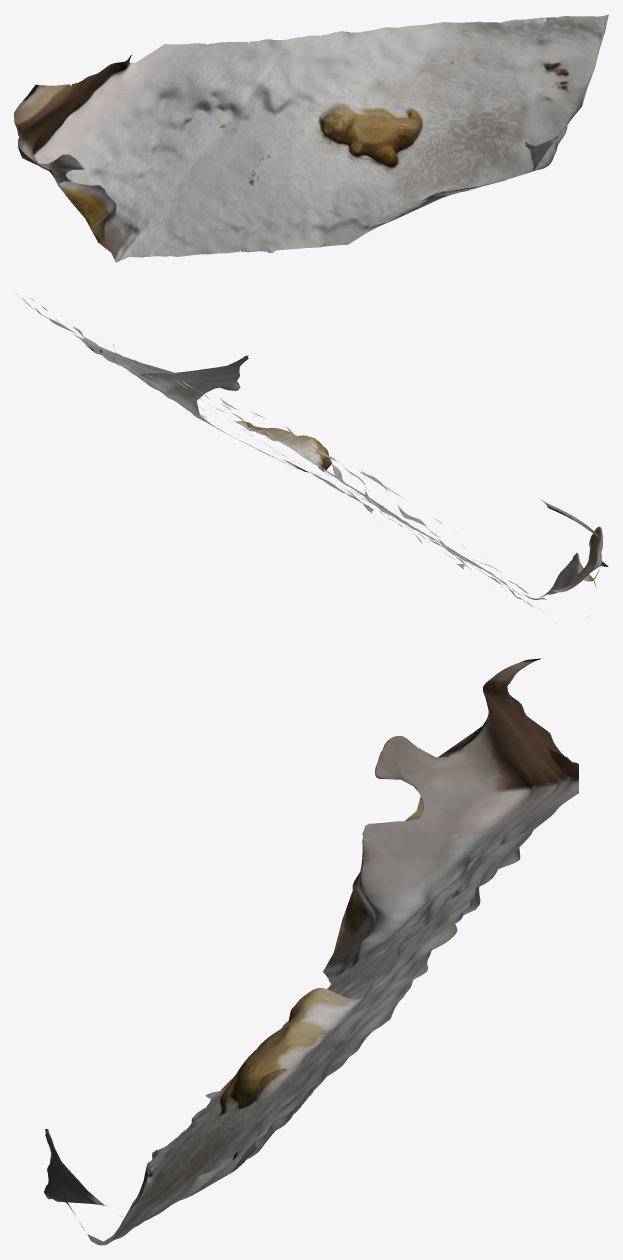
3 renders of one model, top to bottom at view 1: azimuth 30°, elevation 25°; view 2: azimuth 150°, elevation 25°; view 3: azimuth 270°, elevation 25°, orthographic. The views are drawn at different scales.
Bounding box in the file's own units: 1.44 × 0.3722 × 0.6252.
Materials: 1 (1 with a texture image).
